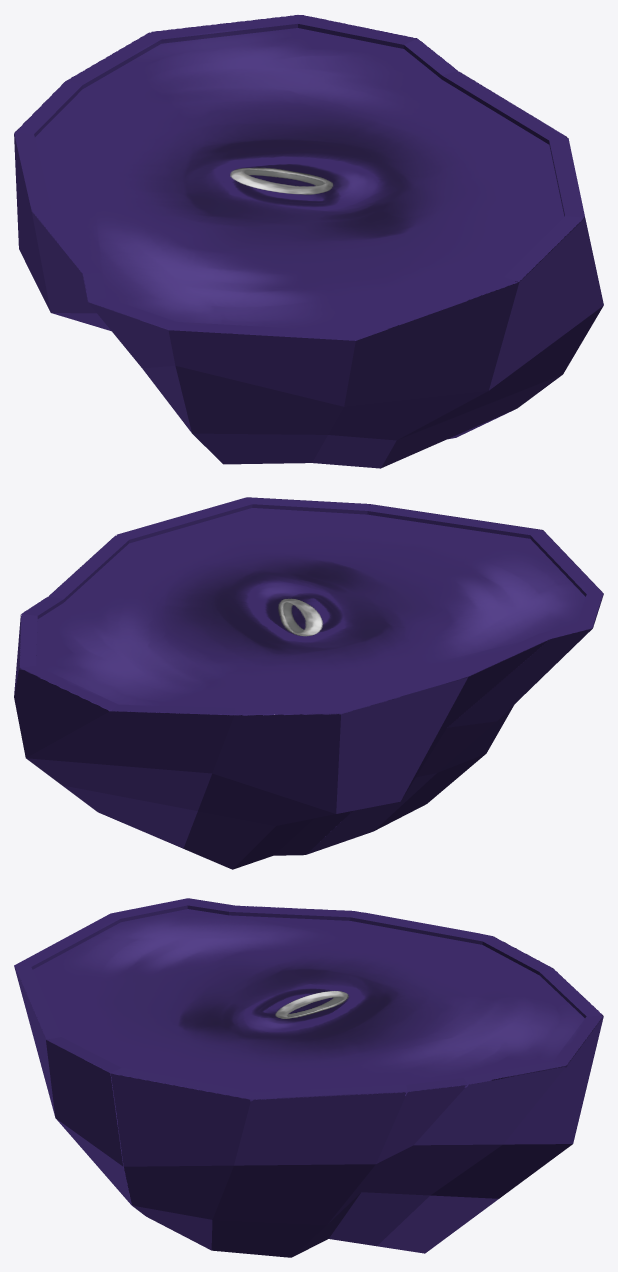
The model's file is ArtifactNodeRing.fbx.
3 renders of one model, top to bottom at view 1: azimuth 30°, elevation 25°; view 2: azimuth 150°, elevation 25°; view 3: azimuth 270°, elevation 25°, orthographic. The views are drawn at different scales.
Visible parts, largest first — view 1: Cube; view 2: Cube; view 3: Cube.
Part boxes in pixels (<box>): Cube: <box>14,15,603,468</box>; Cube: <box>14,497,603,869</box>; Cube: <box>14,898,603,1257</box>.
Bounding box in the file's own units: 497 × 244 × 575.
1 material, 1 textured.
